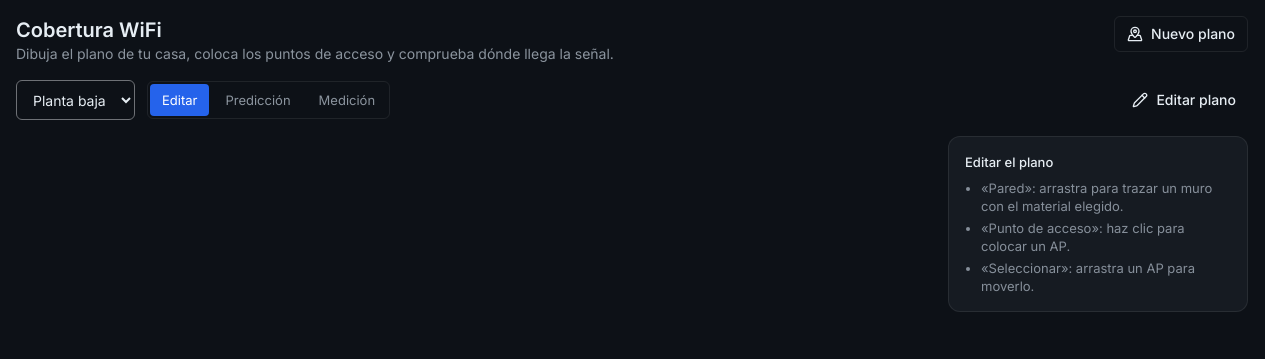
Scenario: CoveragePage › avisa de que la predicción NO es una medida, y de si el modelo está calibrado
This screenshot has width=1265, height=359.
Click the button "Predicción" at (258, 100), box [213,84,303,116]
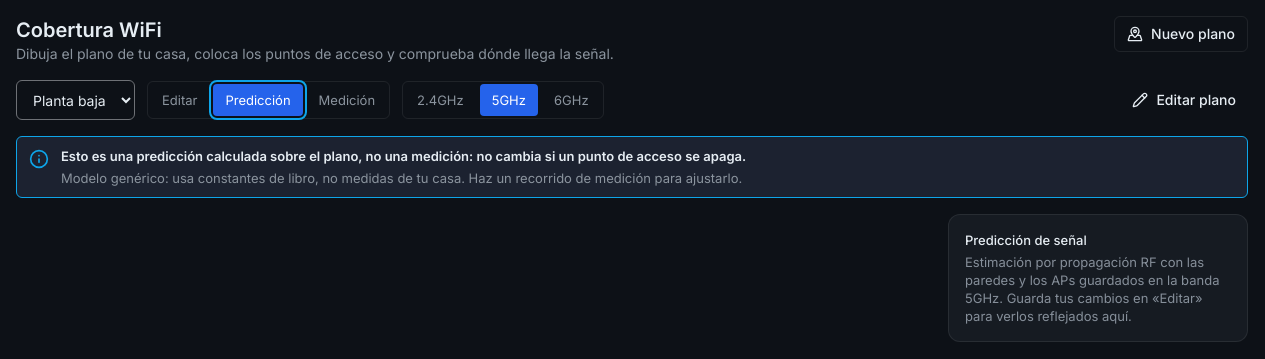
Check: the text "no una medición" is shown, box [61,148,746,164]
Check: the text "Modelo genérico" is shown, box [61,170,742,186]
